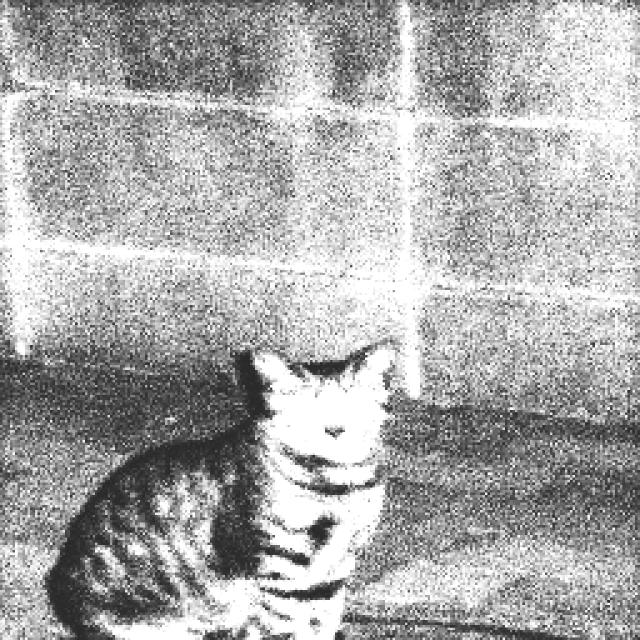cat: (42, 342, 408, 640)
